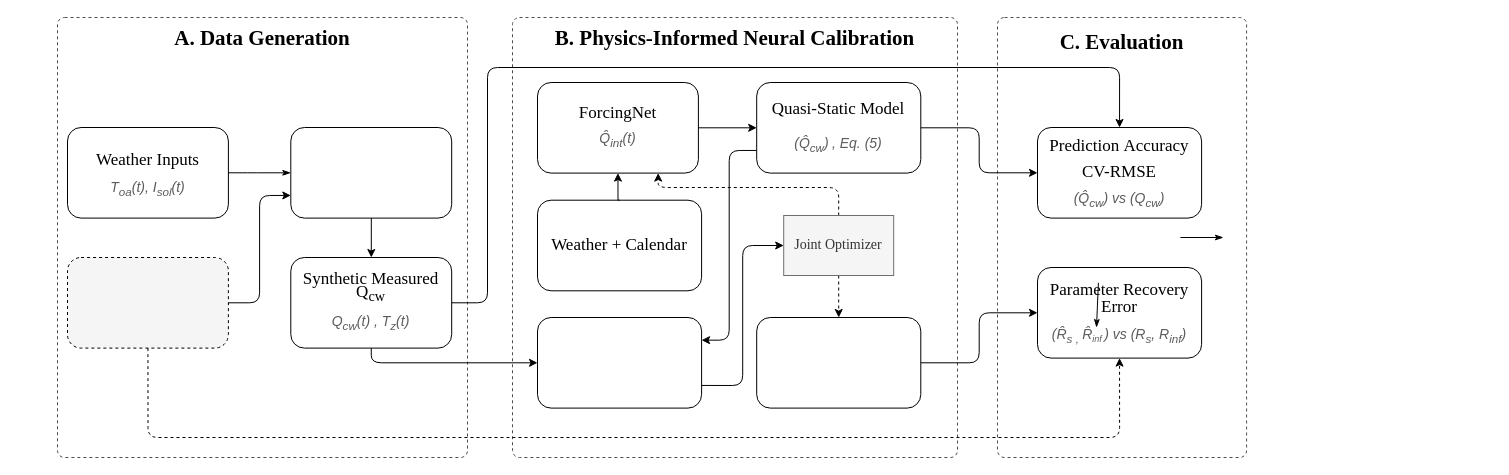
This 1509x475 diagram has some shape labels left out. The shapes that lost their labels are listed below. From the top down, each one's box as (x1, y1, x2, y2) in pixels, then its label:
(290, 126, 452, 218): Dynamic 2R2C Model Eqs. (1), (2)
(66, 256, 228, 348): Benchmark Truth Q int (t), R, C
(536, 316, 702, 408): Loss Function Eq. (7)
(756, 316, 921, 408): R-C Parameters ( R̂ s = R̂ zw + R̂ wo , R̂ inf )
